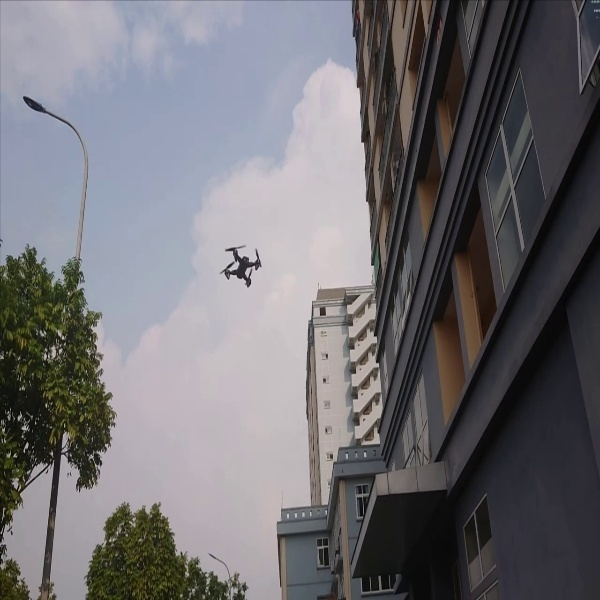drone: (219, 239, 266, 289)
